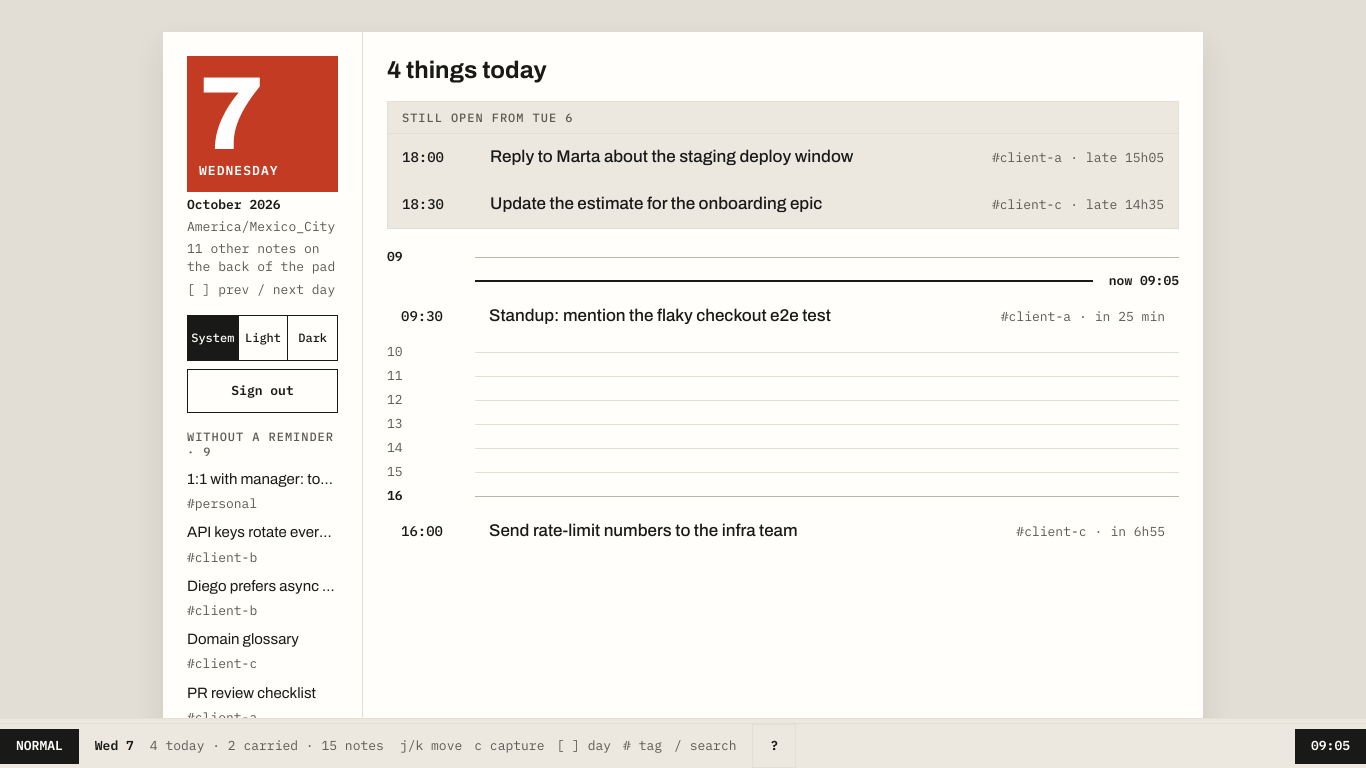
a row opens the note by id; esc returns to the same search, a second esc reaches Today
expect the heading "4 things today" is shown: met, box top-left (387, 57), bottom-right (547, 83)
Type keys "/"
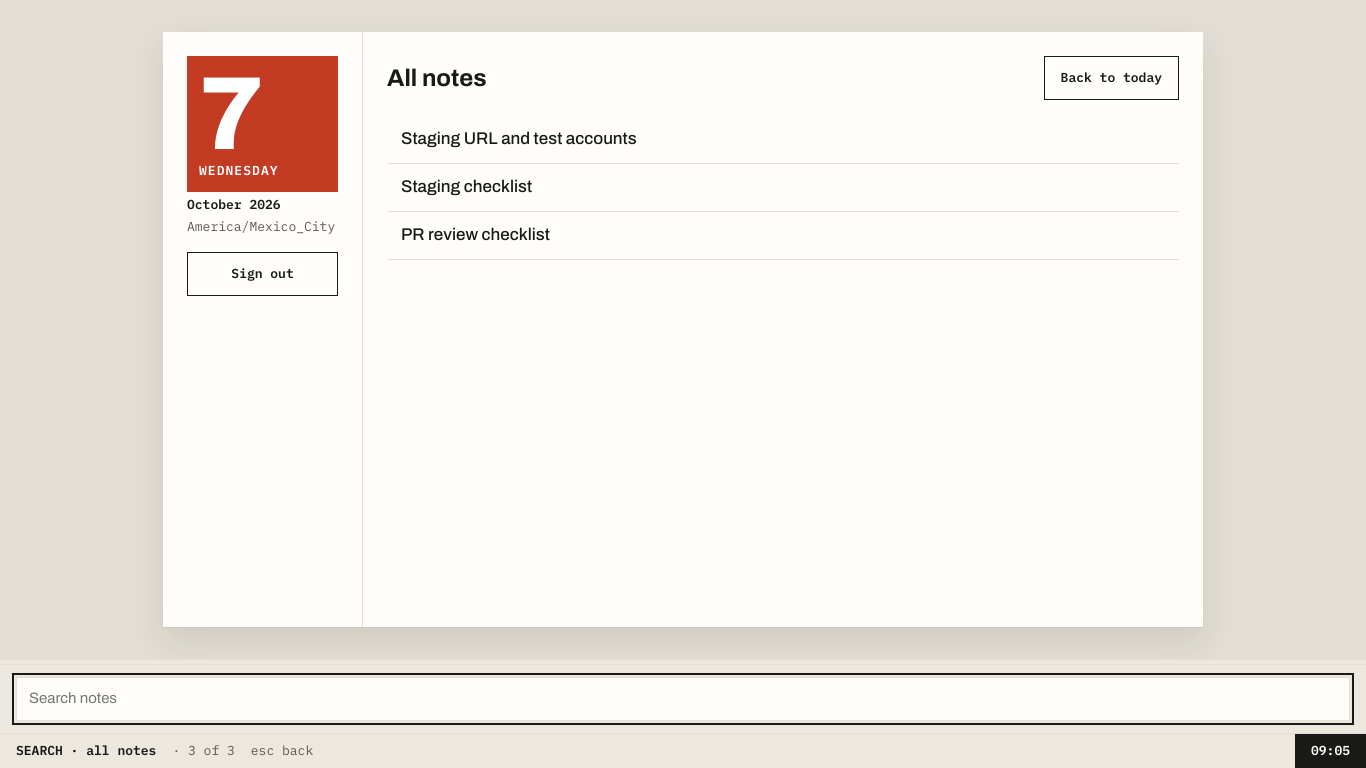
In the field named "Search your notes": x=683, y=699 top-left (16, 677), bottom-right (1350, 721), type "staging"
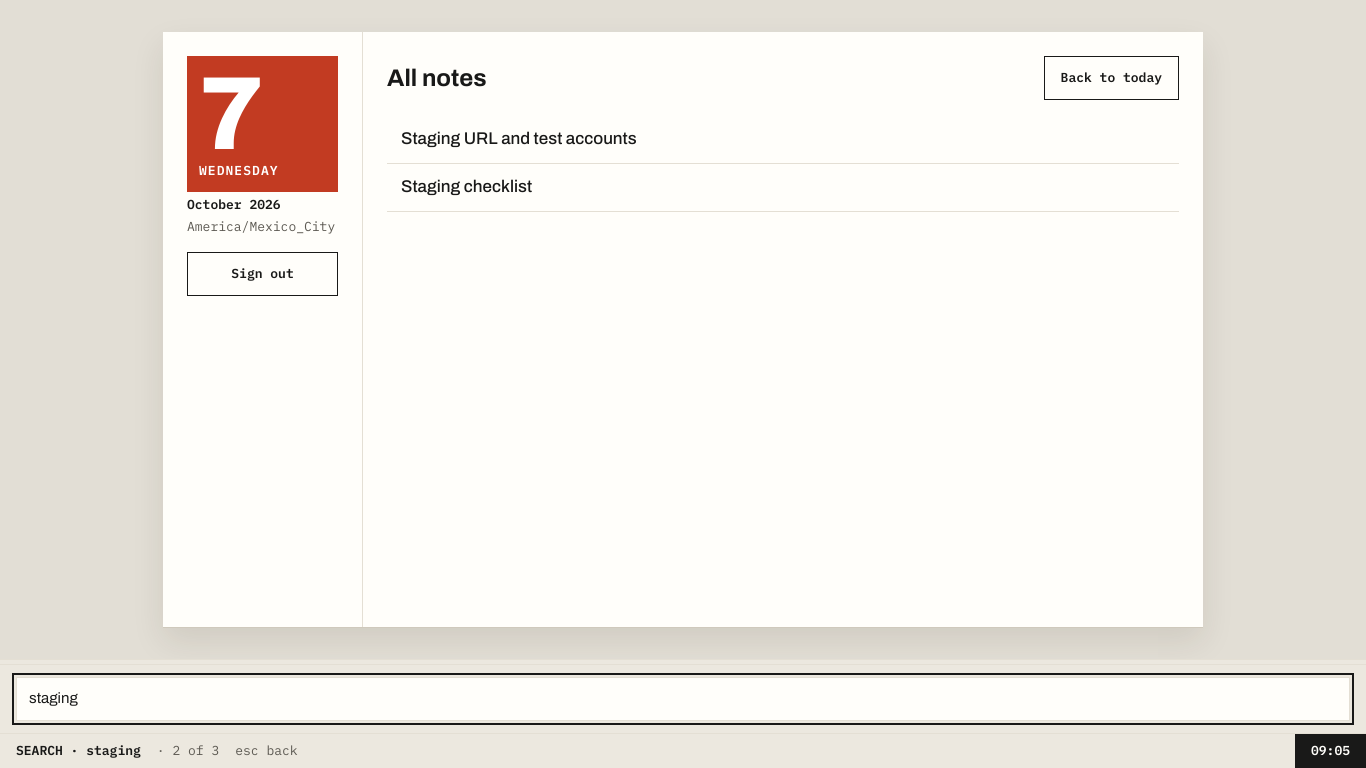
expect the button "Staging URL and test accounts" is shown: met
expect the number of list items is 2: met
Click the button "Staging URL and test accounts": x=519, y=138 top-left (387, 116), bottom-right (1179, 163)
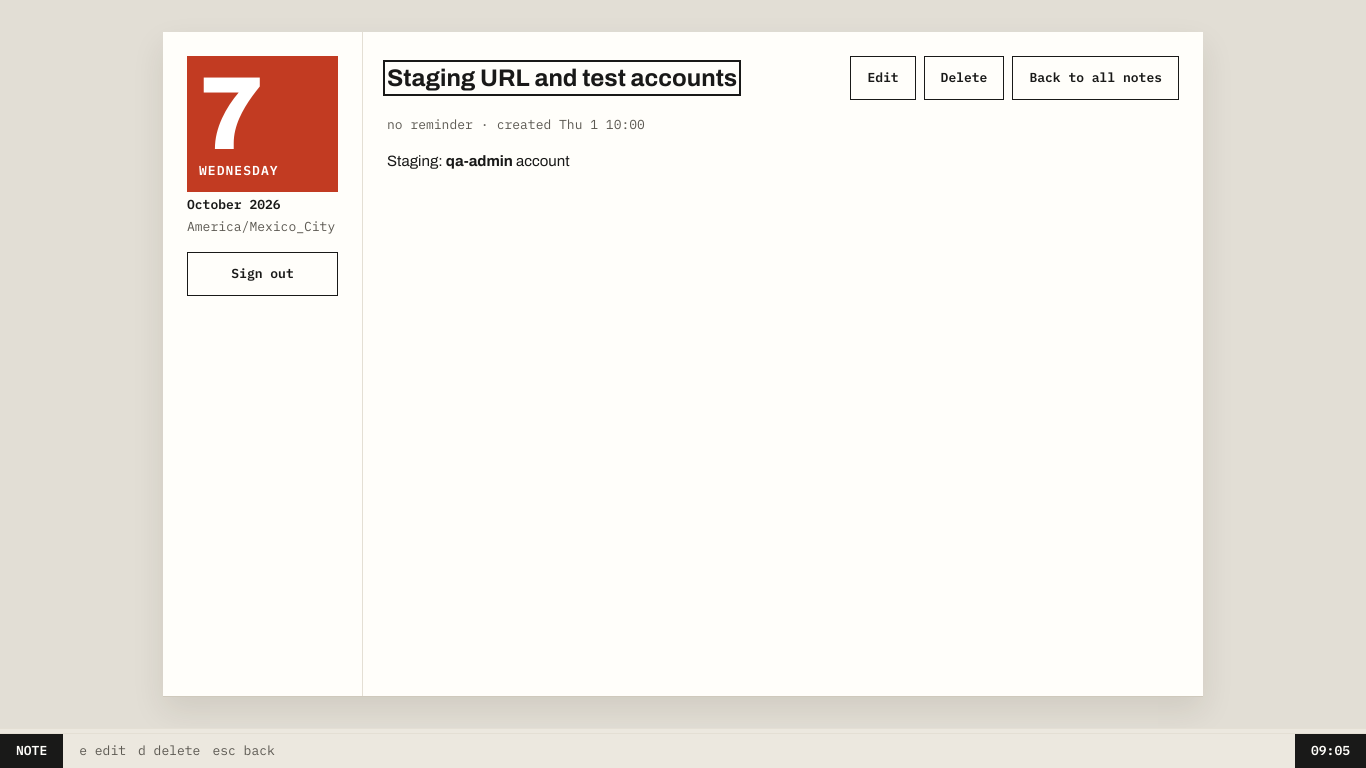
expect the heading "Staging URL and test accounts" is shown: met, box top-left (387, 64), bottom-right (737, 92)
Press Escape
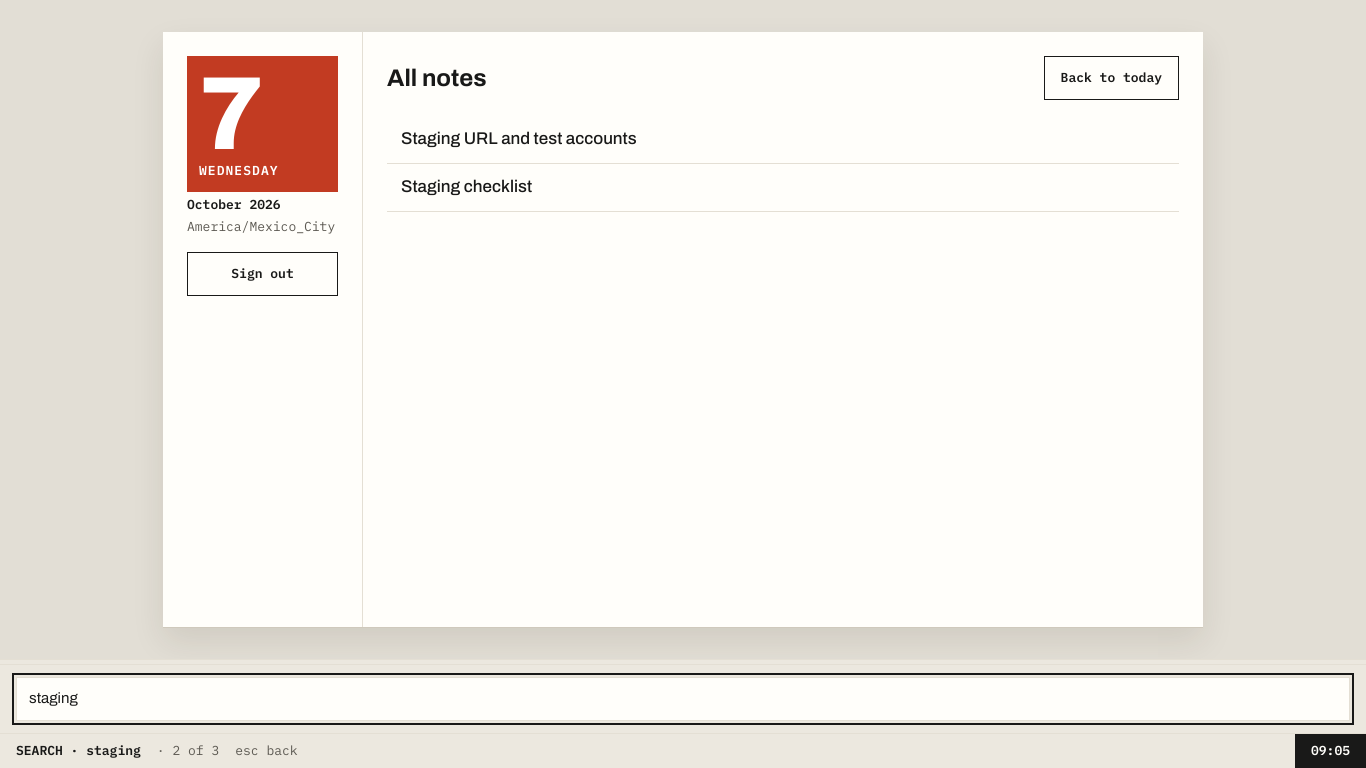
expect the button "PR review checklist" is not shown: met
expect the field named "Search your notes" holds "staging": met, box top-left (16, 677), bottom-right (1350, 721)
expect the number of list items is 2: met, box top-left (387, 116), bottom-right (1179, 164); top-left (387, 164), bottom-right (1179, 212)
Press Escape
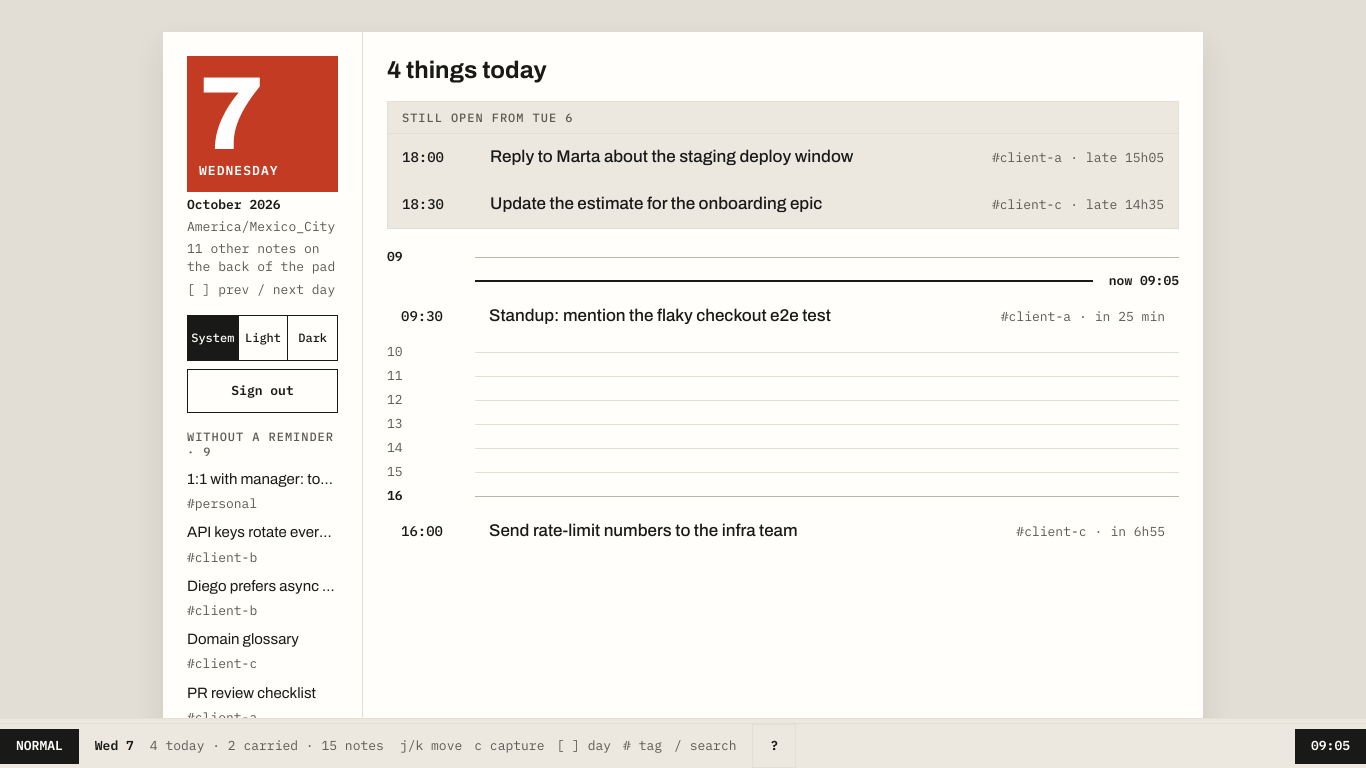
expect the heading "4 things today" is shown: met, box top-left (387, 57), bottom-right (547, 83)
